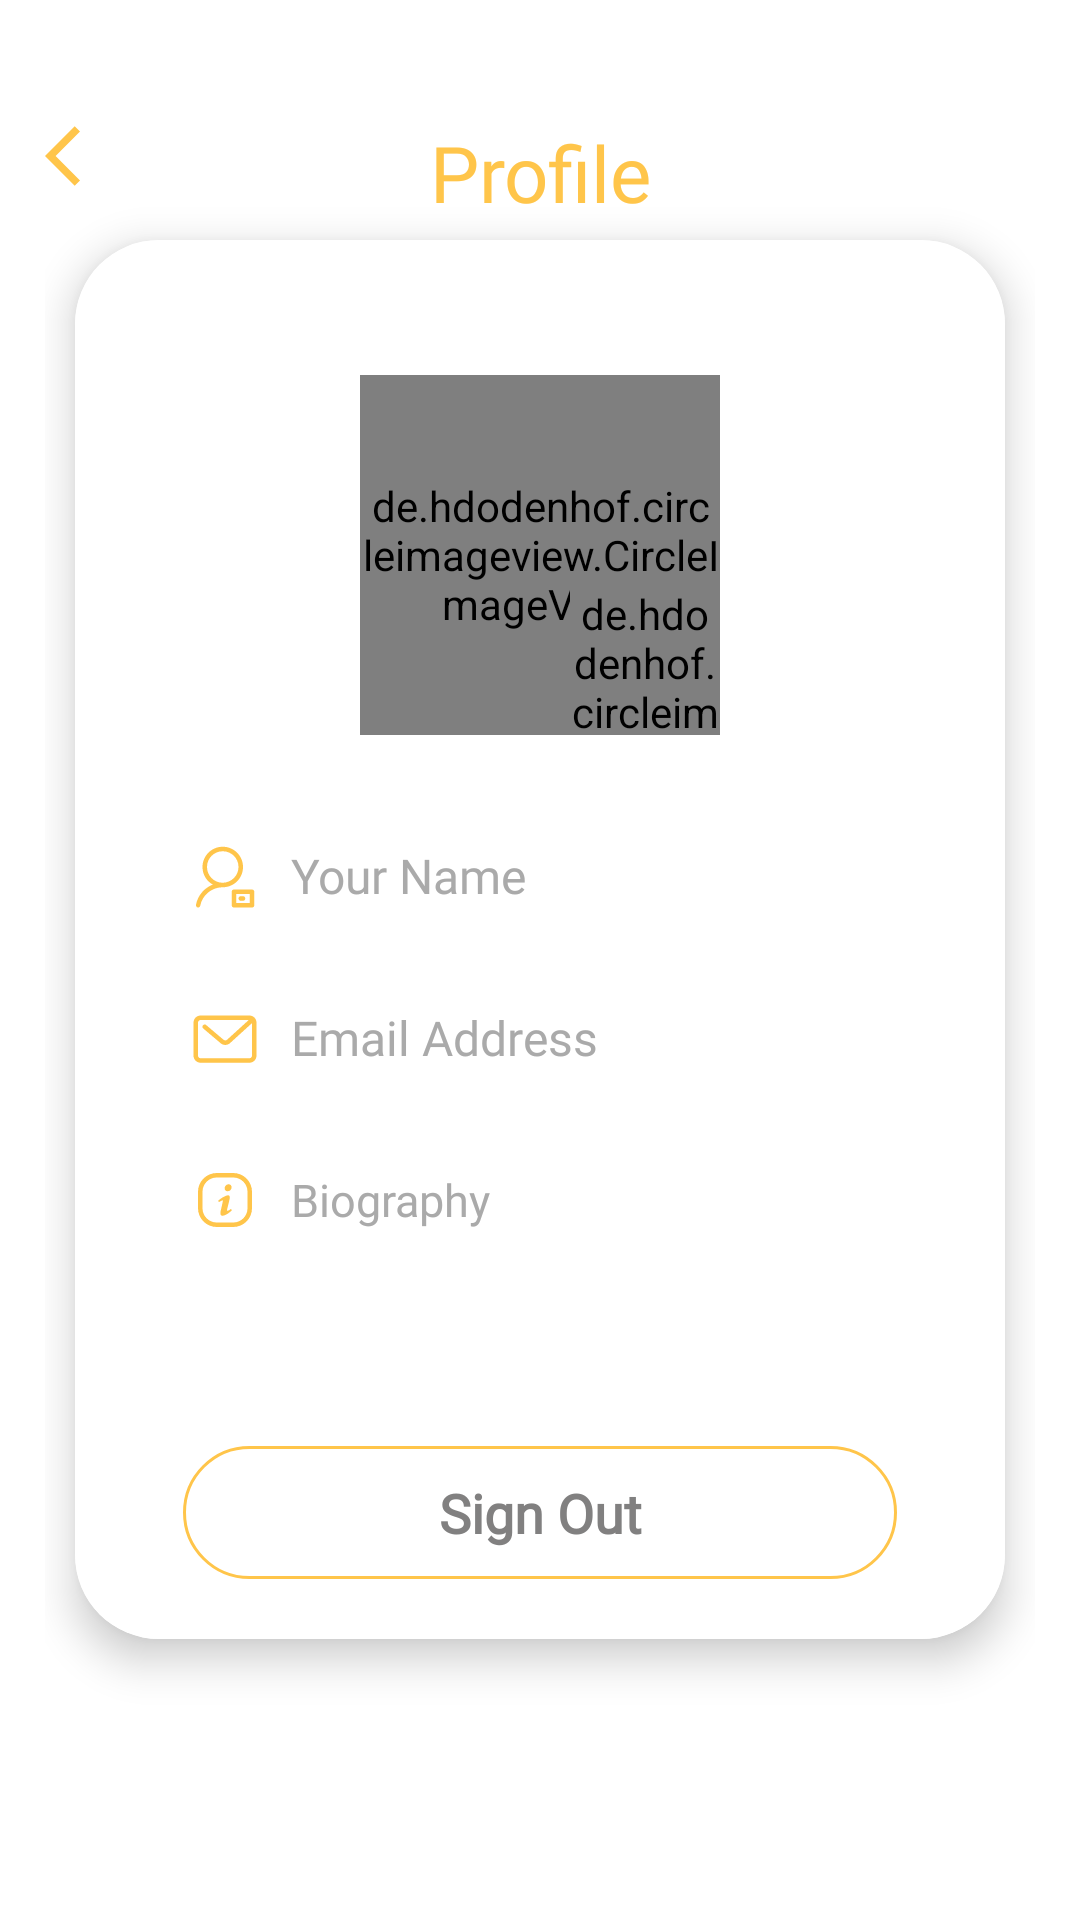

Icon click points for this 1080×1920 phone screenshot, format [x,y]:
arrow back: [62,156]
